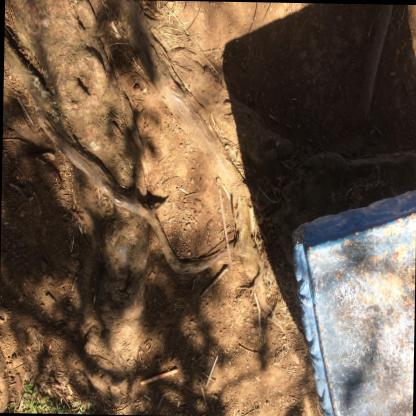Plastic: (217, 187, 231, 268)
Waste: (205, 354, 216, 385)
